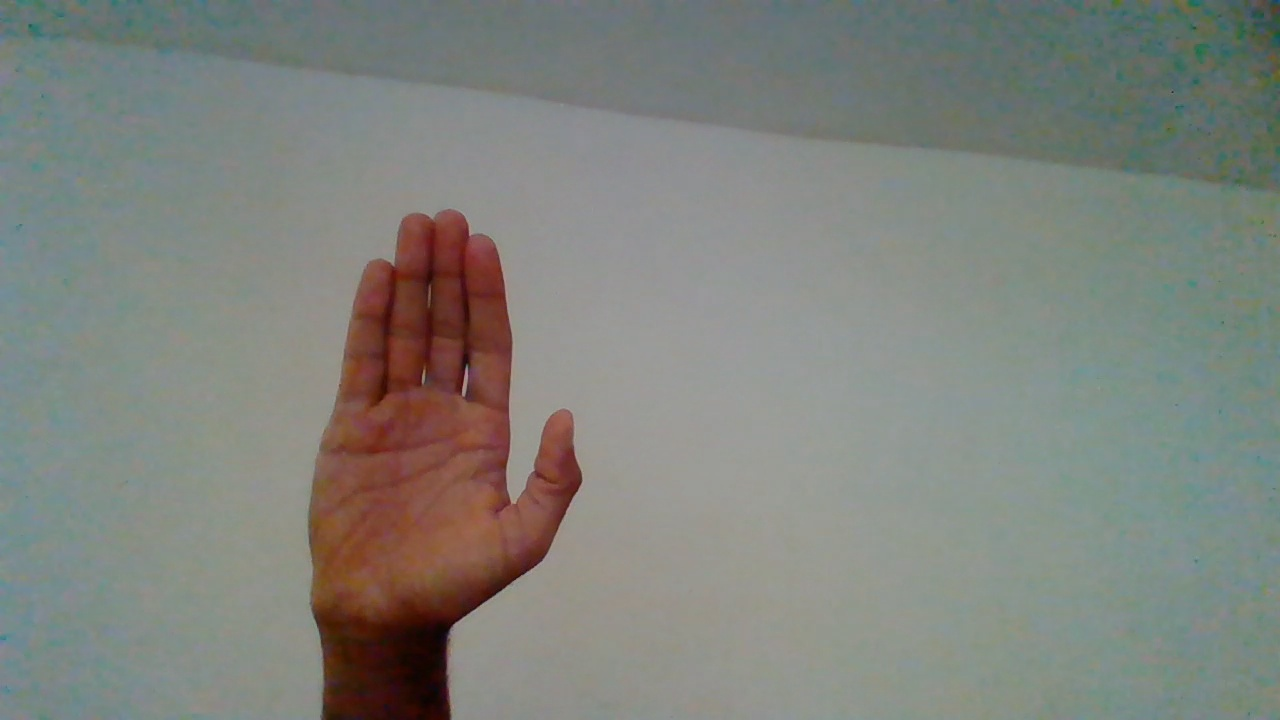ha: (310, 205, 588, 689)
